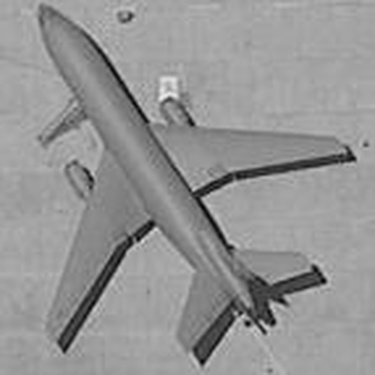airplane: (3, 1, 363, 369)
